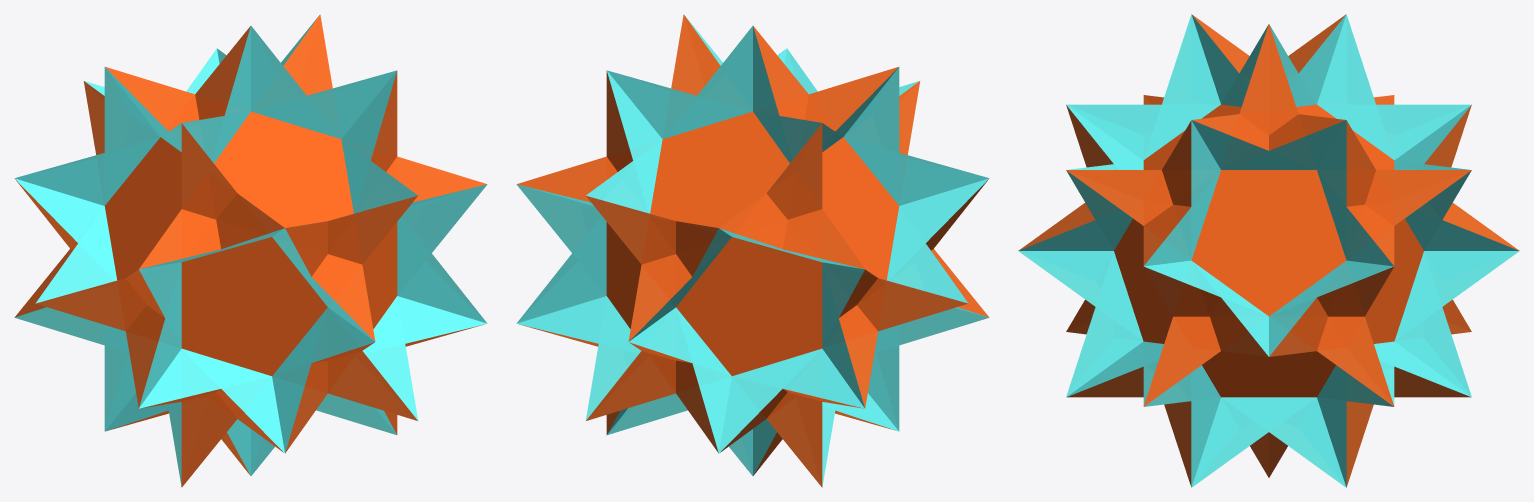
File: GreatDodecahemidodecahedron.obj
The picture shows the model from 3 angles, left to right: view 1: azimuth 30°, elevation 25°; view 2: azimuth 150°, elevation 25°; view 3: azimuth 270°, elevation 25°; orthographic projection.
Size of the model in its own units: 1.24 by 1.24 by 1.24.
